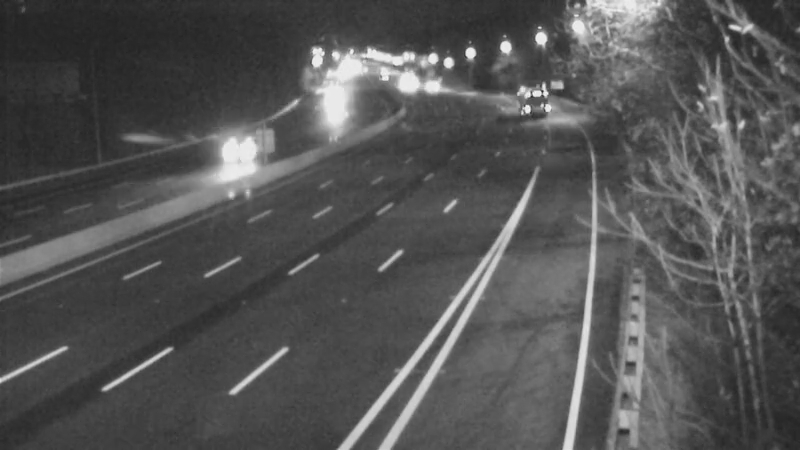vehicle: (195, 114, 275, 194), (498, 72, 548, 122), (312, 86, 362, 136)
